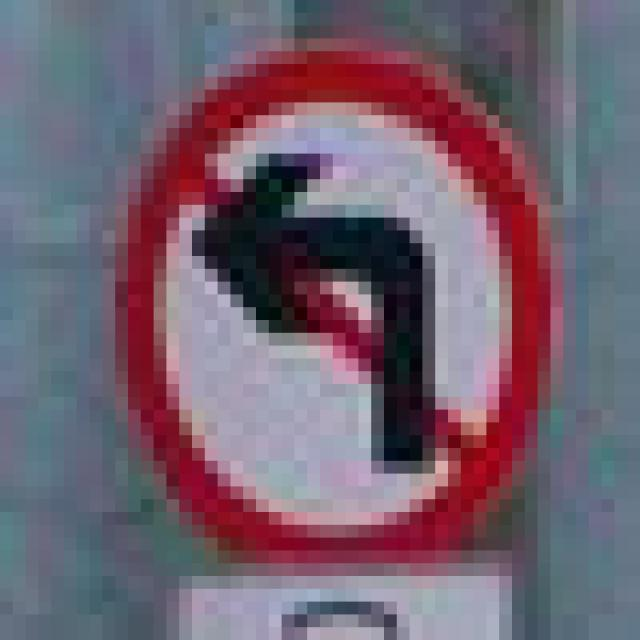LEFT_TURN_PROHIBITED: (102, 26, 550, 550)
